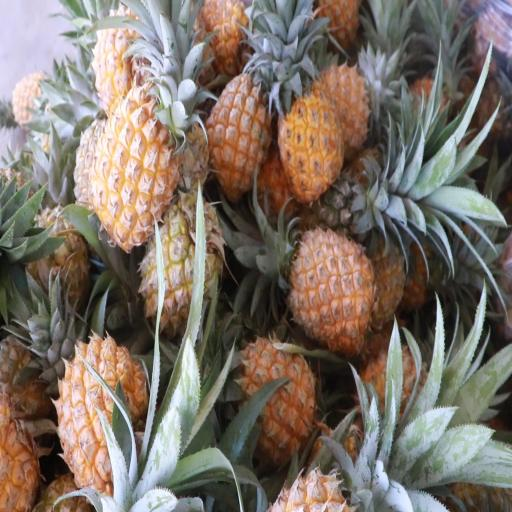------------------------------: (144, 202, 222, 330)
Pineapple - v8 v1: (60, 337, 145, 491), (94, 99, 178, 243), (290, 230, 374, 345), (238, 338, 320, 448), (206, 66, 276, 188), (280, 90, 345, 198), (93, 12, 154, 109)
